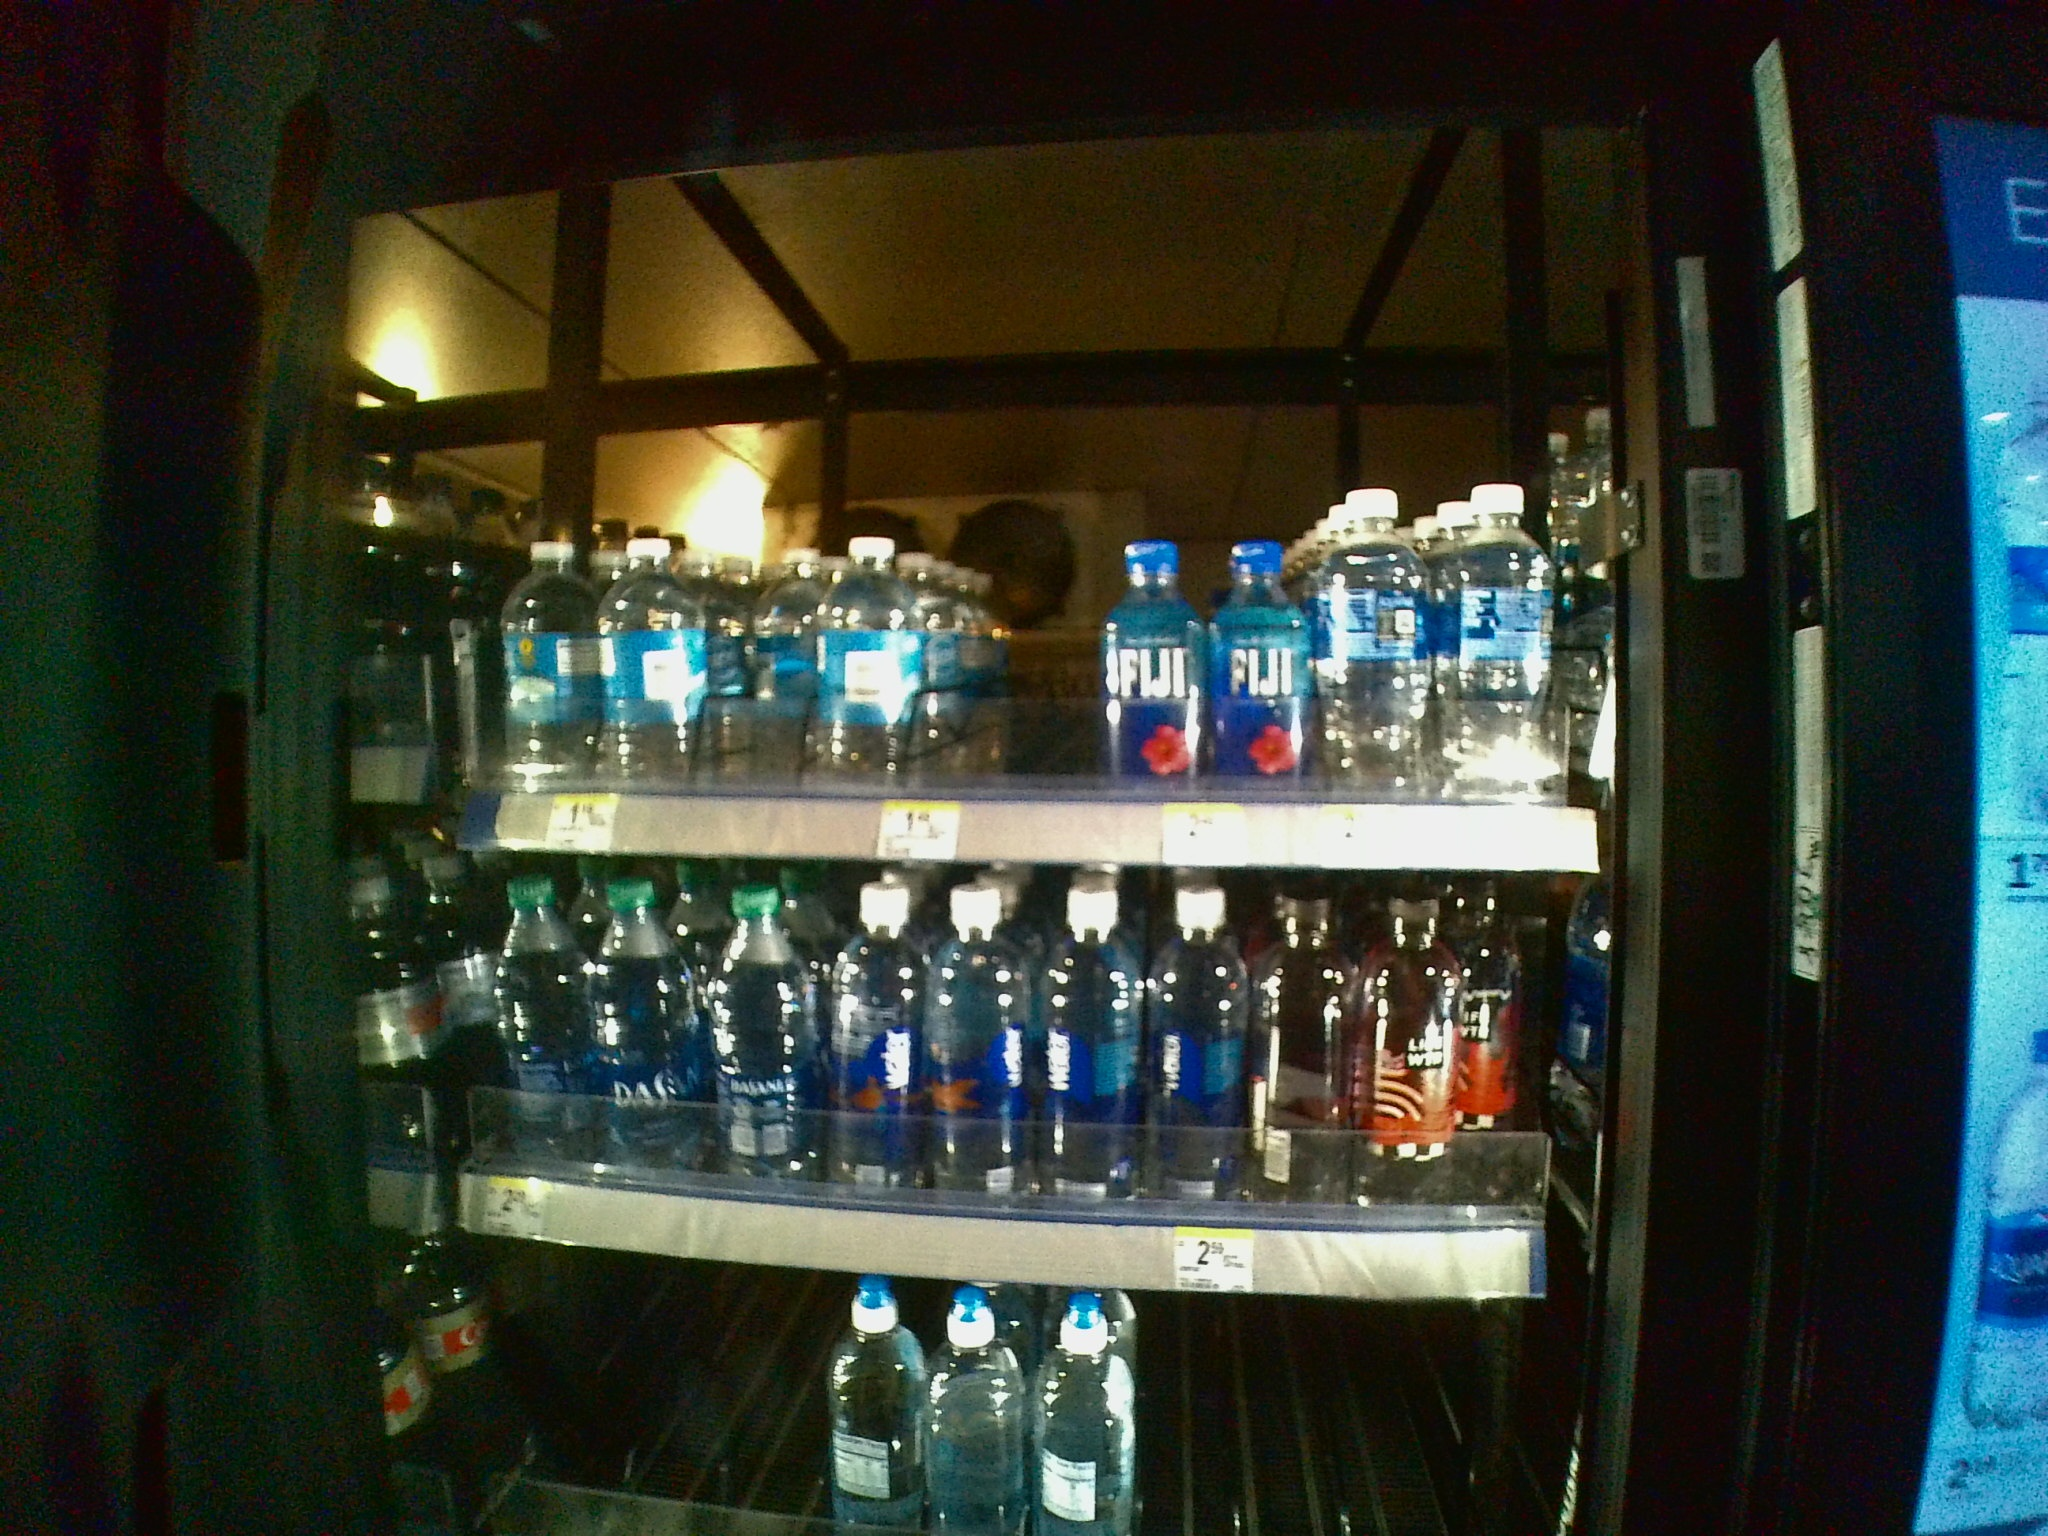Shelf: (427, 382, 1605, 870), (419, 863, 1605, 1305)
